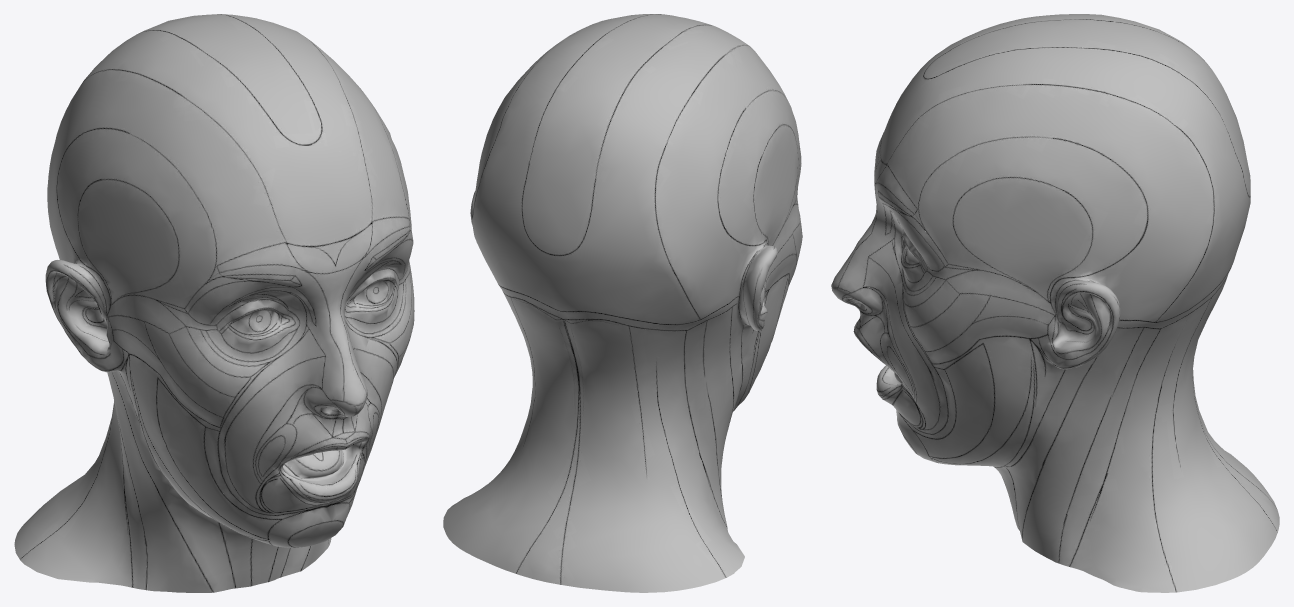
Rendered from 头部分面体_20260324202058_opt.glb.
The picture shows the model from 3 angles, left to right: view 1: azimuth 30°, elevation 25°; view 2: azimuth 150°, elevation 25°; view 3: azimuth 270°, elevation 25°; orthographic projection. The views are drawn at different scales.
Visible parts, largest first — view 1: Shell; view 2: Shell; view 3: Shell.
Boxes of the visible parts, bbox=[...] form: Shell: bbox=[14, 14, 414, 592]; Shell: bbox=[443, 14, 802, 592]; Shell: bbox=[831, 14, 1279, 592].
Size of the model in its own units: 0.2634 by 0.4 by 0.332.
Materials: 2 (1 with a texture image).
